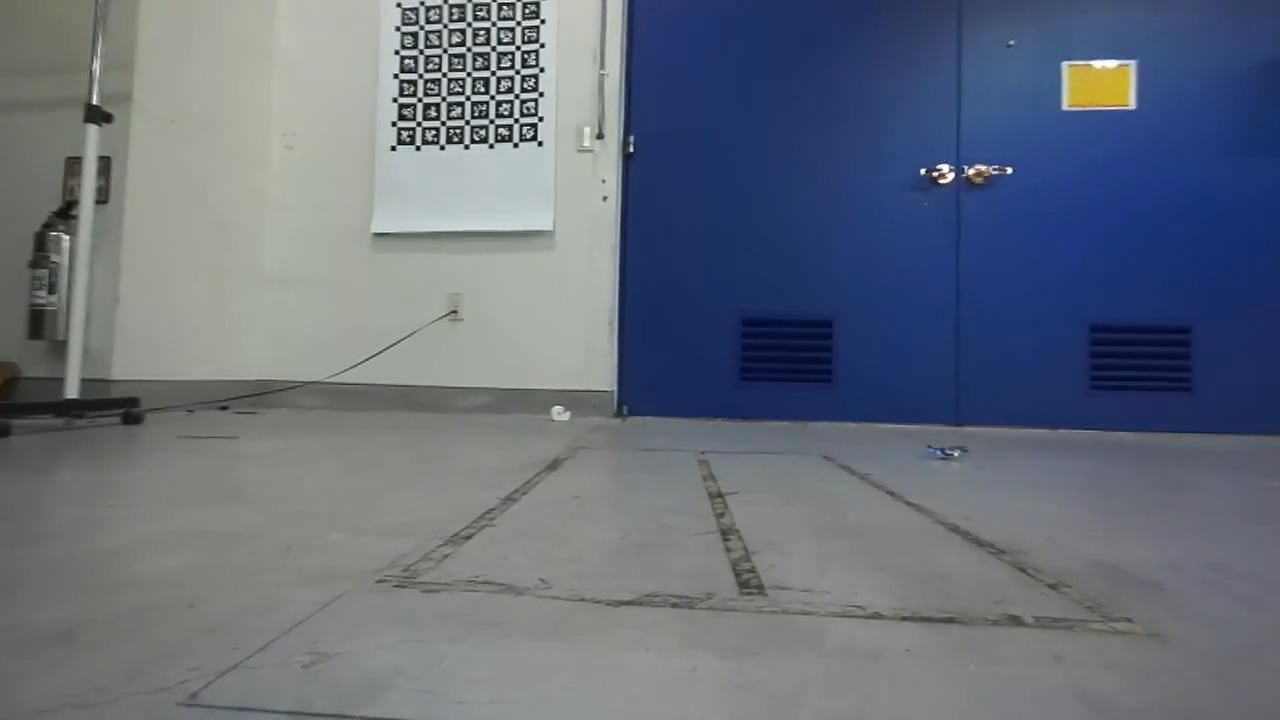crazyflie: (920, 436, 979, 466)
